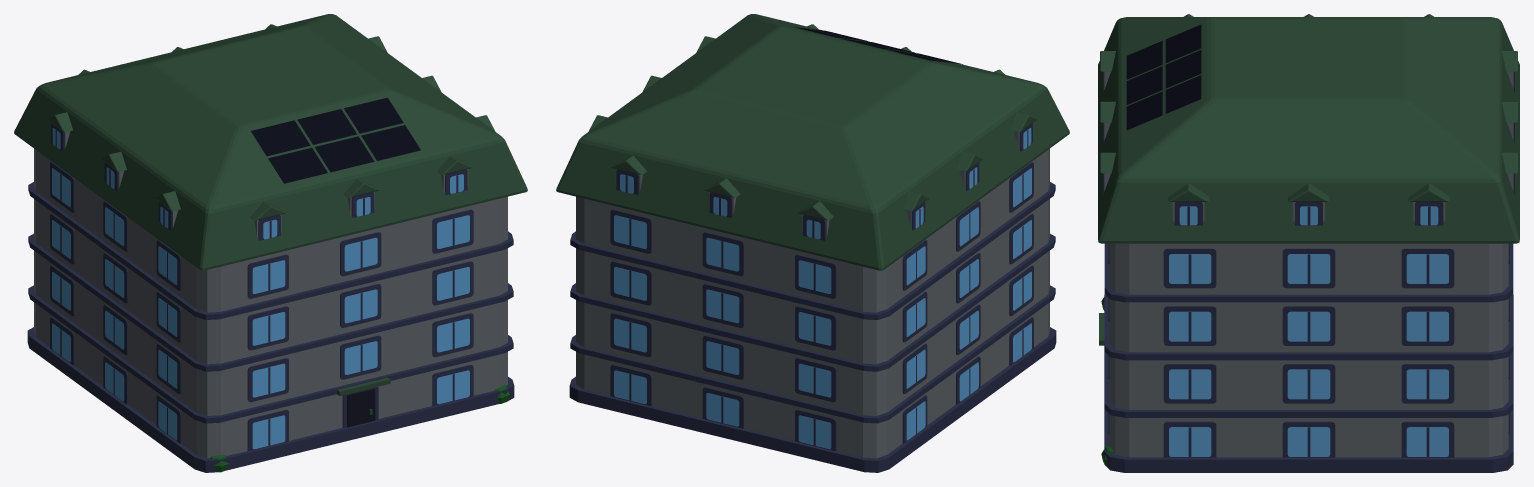
File: house-2x2-4f-mansard-d-solar.glb
The picture shows the model from 3 angles, left to right: view 1: azimuth 30°, elevation 25°; view 2: azimuth 150°, elevation 25°; view 3: azimuth 270°, elevation 25°; orthographic projection. The views are drawn at different scales.
Parts seen in each view (by area): view 1: house-2x2-4f-mansard-d-solar; view 2: house-2x2-4f-mansard-d-solar; view 3: house-2x2-4f-mansard-d-solar.
Part boxes in pixels (x1=…): house-2x2-4f-mansard-d-solar: x1=14, y1=14, x2=527, y2=472; house-2x2-4f-mansard-d-solar: x1=556, y1=14, x2=1069, y2=472; house-2x2-4f-mansard-d-solar: x1=1098, y1=14, x2=1519, y2=472.
Bounding box in the file's own units: 1.99 × 1.71 × 1.99.
Materials: 1 (1 with a texture image).
